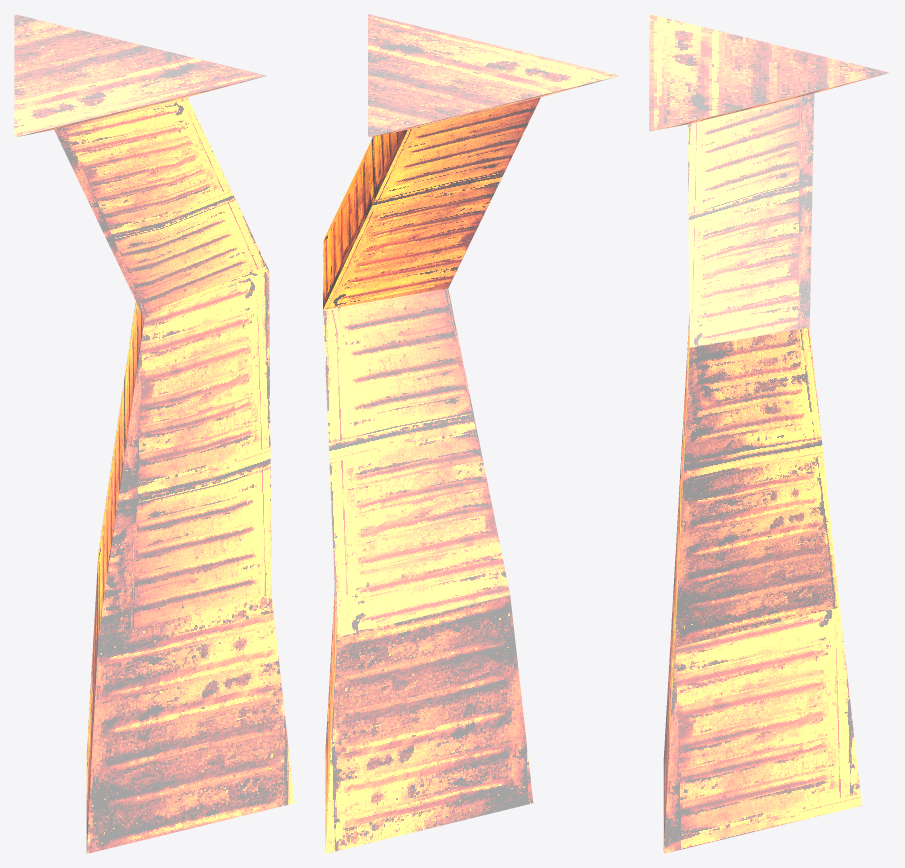
File: Pillar.glb
3 renders of one model, left to right at view 1: azimuth 30°, elevation 25°; view 2: azimuth 150°, elevation 25°; view 3: azimuth 270°, elevation 25°, orthographic. The views are drawn at different scales.
Visible parts, largest first — view 1: Pillar; view 2: Pillar; view 3: Pillar.
Boxes of the visible parts, bbox=[...] form: Pillar: bbox=[14, 14, 294, 853]; Pillar: bbox=[323, 14, 620, 853]; Pillar: bbox=[649, 14, 889, 853].
Size of the model in its own units: 18.83 by 46.31 by 14.33.
